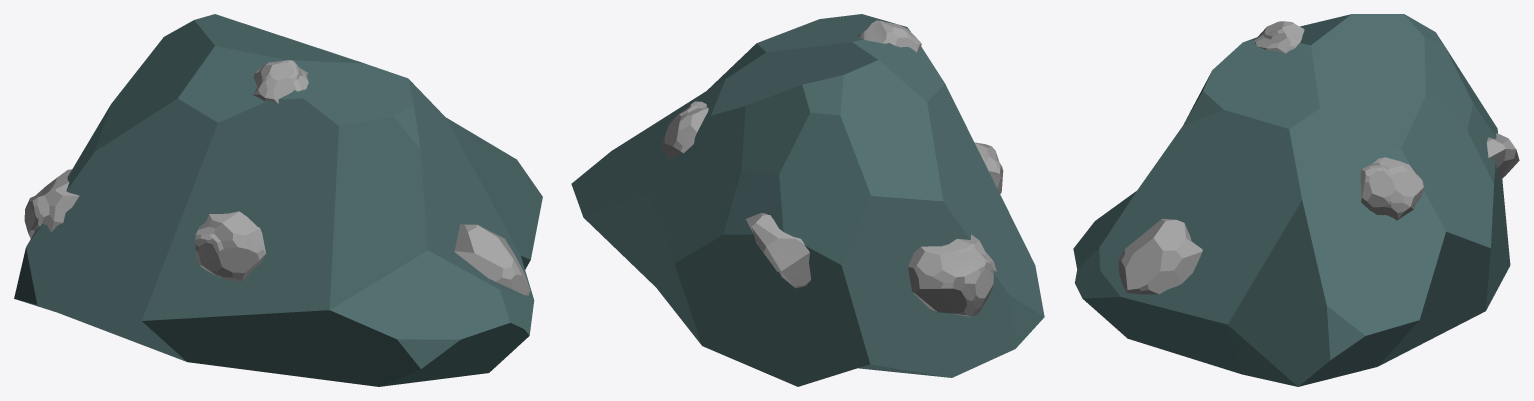
File: Iron3.fbx
3 renders of one model, left to right at view 1: azimuth 30°, elevation 25°; view 2: azimuth 150°, elevation 25°; view 3: azimuth 270°, elevation 25°, orthographic. The views are drawn at different scales.
Visible parts, largest first — view 1: Rock2, Nodes; view 2: Rock2, Nodes; view 3: Rock2, Nodes.
Part boxes in pixels (bbox=[...]): Rock2: bbox=[14, 14, 542, 386]; Nodes: bbox=[24, 60, 530, 295]; Rock2: bbox=[571, 14, 1044, 386]; Nodes: bbox=[661, 20, 1003, 316]; Rock2: bbox=[1073, 14, 1510, 386]; Nodes: bbox=[1118, 21, 1519, 294].
Bounding box in the file's own units: 183 × 105 × 155.
